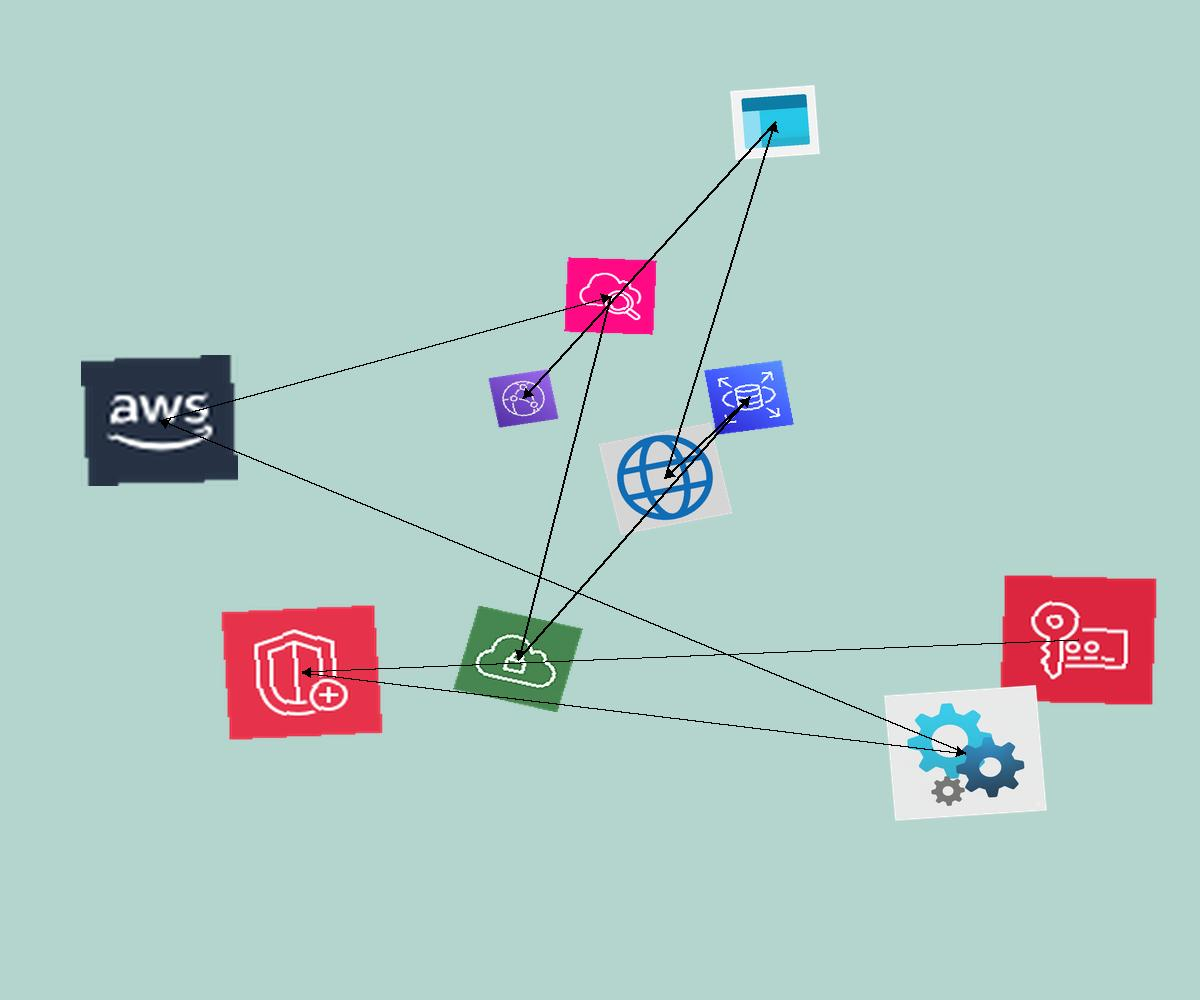AWS-Cloud-logo: (81, 355, 238, 486)
AWS-CloudFront: (488, 369, 559, 428)
AWS-CloudWatch: (564, 257, 657, 335)
AWS-Key-Management-Service: (999, 574, 1158, 706)
AWS-Private_vpc: (453, 605, 583, 713)
AWS-RDS: (704, 360, 794, 435)
AWS-Shield: (220, 604, 384, 741)
Azure_api: (884, 685, 1047, 821)
Azure_http: (598, 422, 733, 535)
Azure_management-portal: (730, 85, 820, 160)
